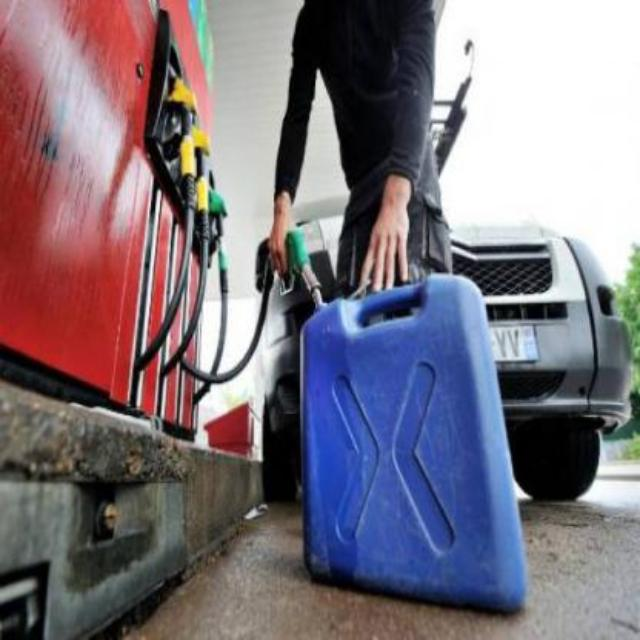chemical_plastic_gallon: (293, 268, 531, 610)
